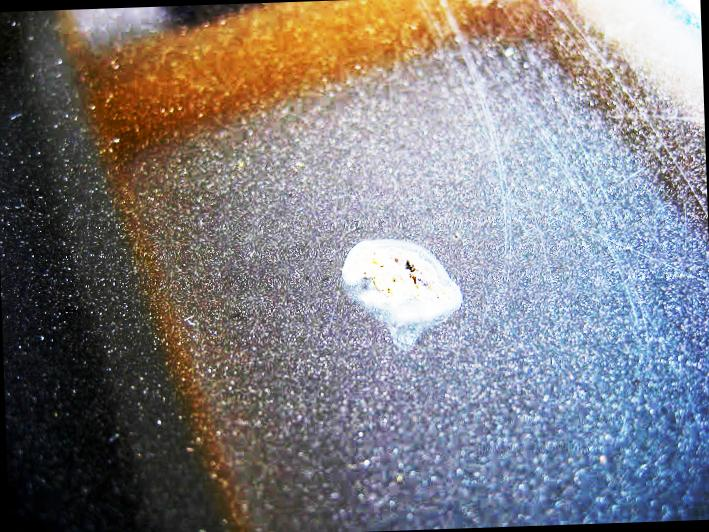Bird Poop: (343, 241, 460, 318)
